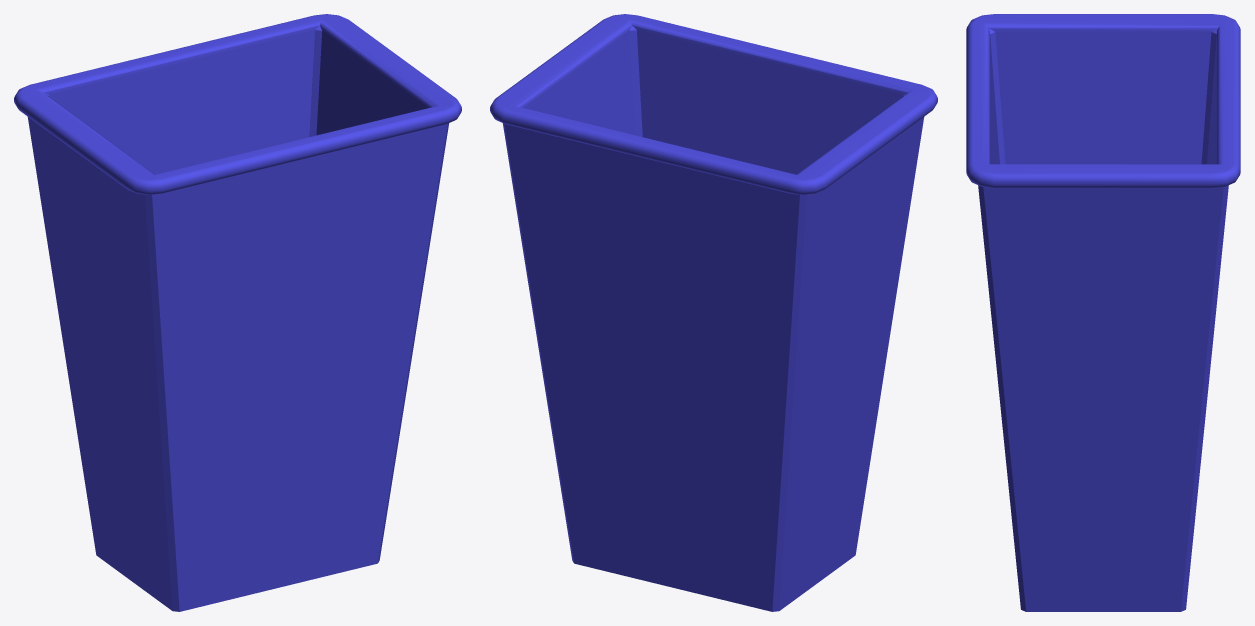
File: IndoorBin_Blue.fbx
3 renders of one model, left to right at view 1: azimuth 30°, elevation 25°; view 2: azimuth 150°, elevation 25°; view 3: azimuth 270°, elevation 25°, orthographic.
Parts seen in each view (by area): view 1: pCube1; view 2: pCube1; view 3: pCube1.
Part boxes in pixels (x1,y1,x2,y2): pCube1: (14, 14, 461, 611); pCube1: (490, 14, 937, 611); pCube1: (966, 14, 1240, 611).
Bounding box in the file's own units: 1.09 × 1.44 × 0.7675.
